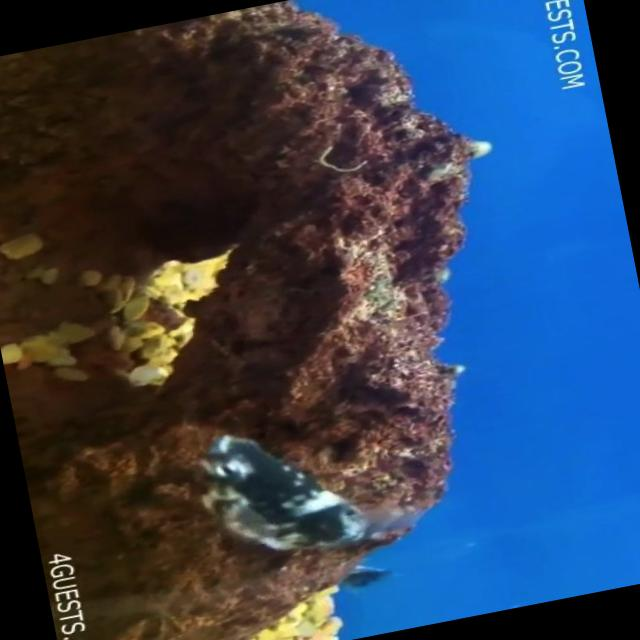PlatyFish: (152, 380, 440, 606)
